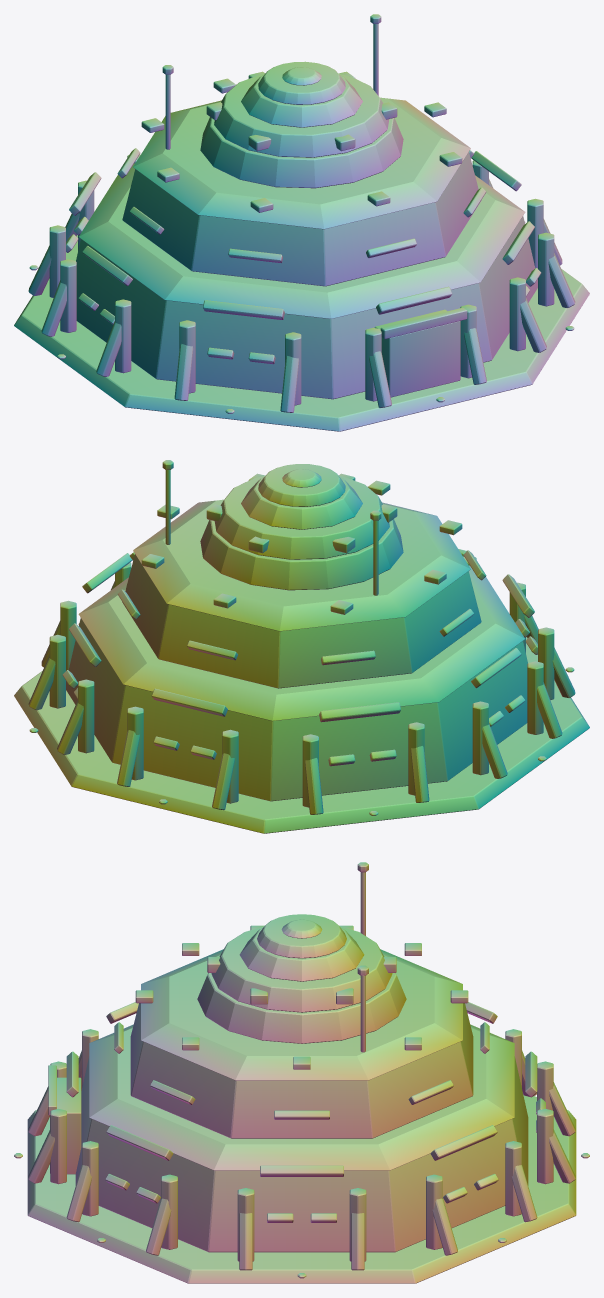
Rendered from hq_rig.glb.
3 views of the same model, one above another, from view 1: azimuth 30°, elevation 25°; view 2: azimuth 150°, elevation 25°; view 3: azimuth 270°, elevation 25° (orthographic). The views are drawn at different scales.
Visible parts, largest first — view 1: body, spin_eye; view 2: body, spin_eye; view 3: body, spin_eye.
Part boxes in pixels (left/top/right/bottom): body: left=14, top=14, right=589, bottom=431; spin_eye: left=206, top=71, right=397, bottom=157; body: left=14, top=460, right=589, bottom=833; spin_eye: left=206, top=473, right=397, bottom=559; body: left=14, top=862, right=589, bottom=1283; spin_eye: left=207, top=925, right=396, bottom=1012.
Bounding box in the file's own units: 32.88 × 15.9 × 32.91.
